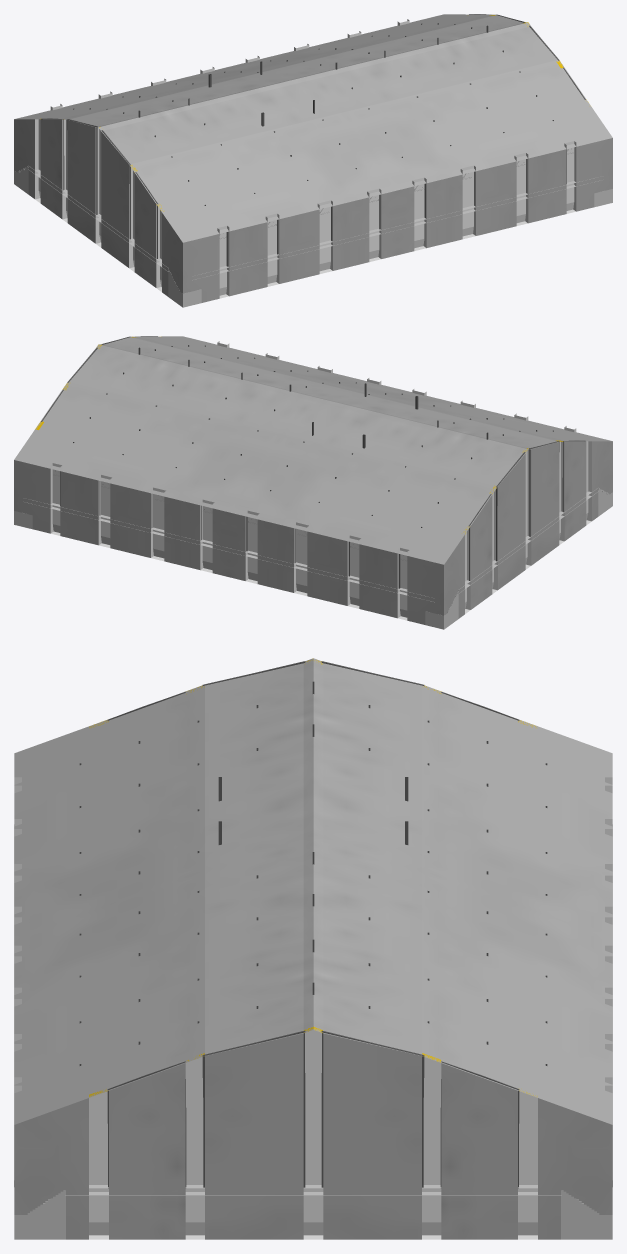
The model's file is ArenaVisible 1.fbx.
3 views of the same model, one above another, from view 1: azimuth 30°, elevation 25°; view 2: azimuth 150°, elevation 25°; view 3: azimuth 270°, elevation 25° (orthographic). The views are drawn at different scales.
Visible parts, largest first — view 1: Floor.001, topFloor.002, stairBase.002, WallX.009; view 2: Floor.001, topFloor.002, stairBase.002, WallX.009; view 3: Floor.001, stairBase.002, WallX.009, topFloor.002, WallX.008.
Boxes of the visible parts, x1,y1,x2,y2 form: Floor.001: (14,14,612,302); topFloor.002: (28,61,599,280); stairBase.002: (14,168,612,307); WallX.009: (67,14,559,239); Floor.001: (14,336,612,624); topFloor.002: (27,383,598,602); stairBase.002: (14,490,612,629); WallX.009: (67,336,559,561); Floor.001: (14,658,612,1239); stairBase.002: (14,1191,612,1239); WallX.009: (202,661,424,1187); topFloor.002: (14,777,612,1195); WallX.008: (107,692,519,1188).
Size of the model in its own units: 580 by 162 by 394.
